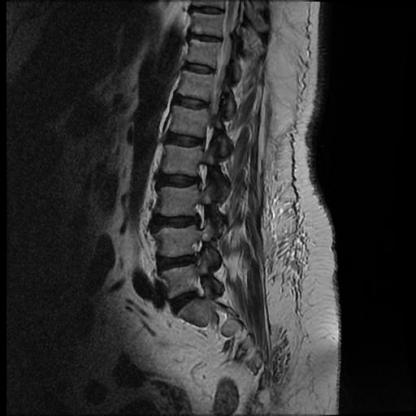Degenerative Disc Diseaserotation: (156, 253, 195, 274)
Disc Bulgerotation: (152, 212, 202, 239), (157, 253, 196, 274), (156, 172, 199, 191), (165, 131, 206, 150), (167, 291, 203, 310)
